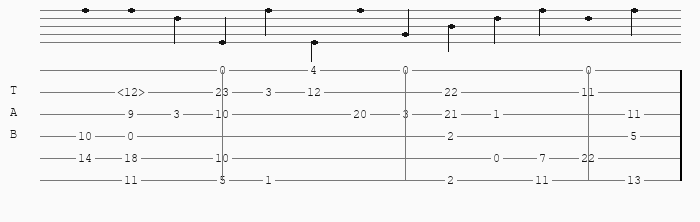0: (127, 130, 138, 142), (219, 64, 230, 76), (402, 64, 413, 76), (493, 152, 504, 164), (585, 64, 596, 76)
1: (265, 174, 276, 186), (493, 108, 504, 120)
10: (78, 130, 96, 142), (215, 108, 233, 120), (215, 152, 233, 164)
11: (124, 174, 142, 186), (535, 174, 553, 186), (581, 86, 599, 98), (627, 108, 645, 120)
12: (307, 86, 325, 98)
13: (627, 174, 645, 186)
14: (78, 152, 96, 164)
18: (124, 152, 142, 164)
2: (447, 130, 458, 142), (447, 174, 458, 186)
20: (353, 108, 371, 120)
21: (444, 108, 462, 120)
22: (444, 86, 462, 98), (581, 152, 599, 164)
23: (215, 86, 233, 98)
3: (173, 108, 184, 120), (265, 86, 276, 98), (402, 108, 413, 120)
4: (310, 64, 321, 76)
5: (219, 174, 230, 186), (630, 130, 641, 142)
7: (539, 152, 550, 164)
9: (127, 108, 138, 120)
harmonic: (117, 86, 149, 99)
